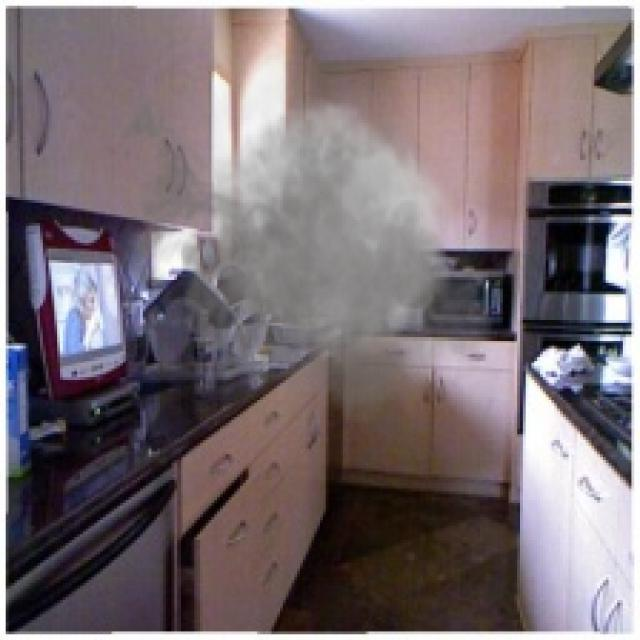Smoke: (106, 29, 508, 438)
